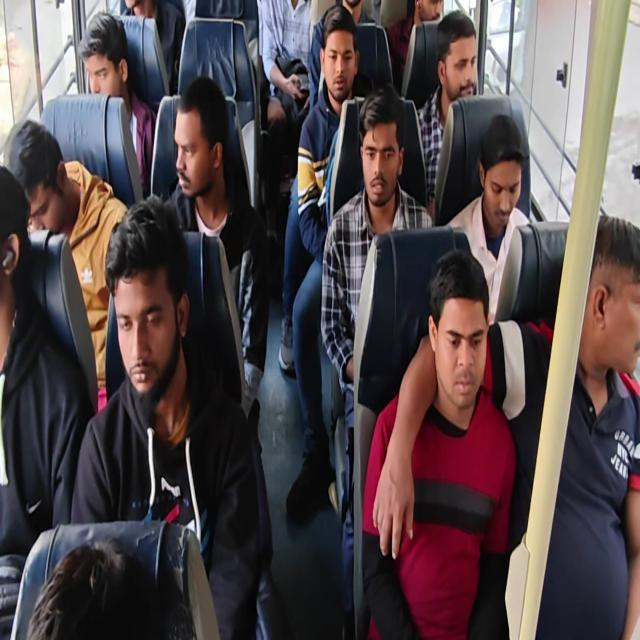person: (1, 0, 638, 638), (386, 212, 640, 638), (70, 194, 260, 638), (391, 113, 554, 555), (319, 83, 434, 634), (361, 248, 516, 638), (520, 213, 640, 639), (0, 164, 94, 638), (286, 5, 364, 521), (164, 74, 270, 422), (6, 119, 129, 412), (444, 113, 532, 325), (77, 11, 156, 197), (26, 537, 160, 639), (416, 9, 478, 216), (260, 0, 313, 196), (308, 0, 376, 113), (121, 0, 185, 95), (385, 0, 444, 94)
